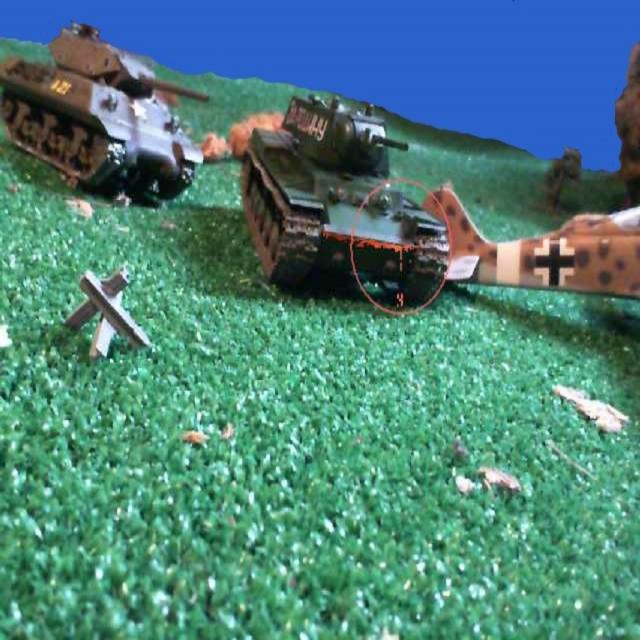tank: (237, 90, 448, 306), (0, 20, 210, 202)
